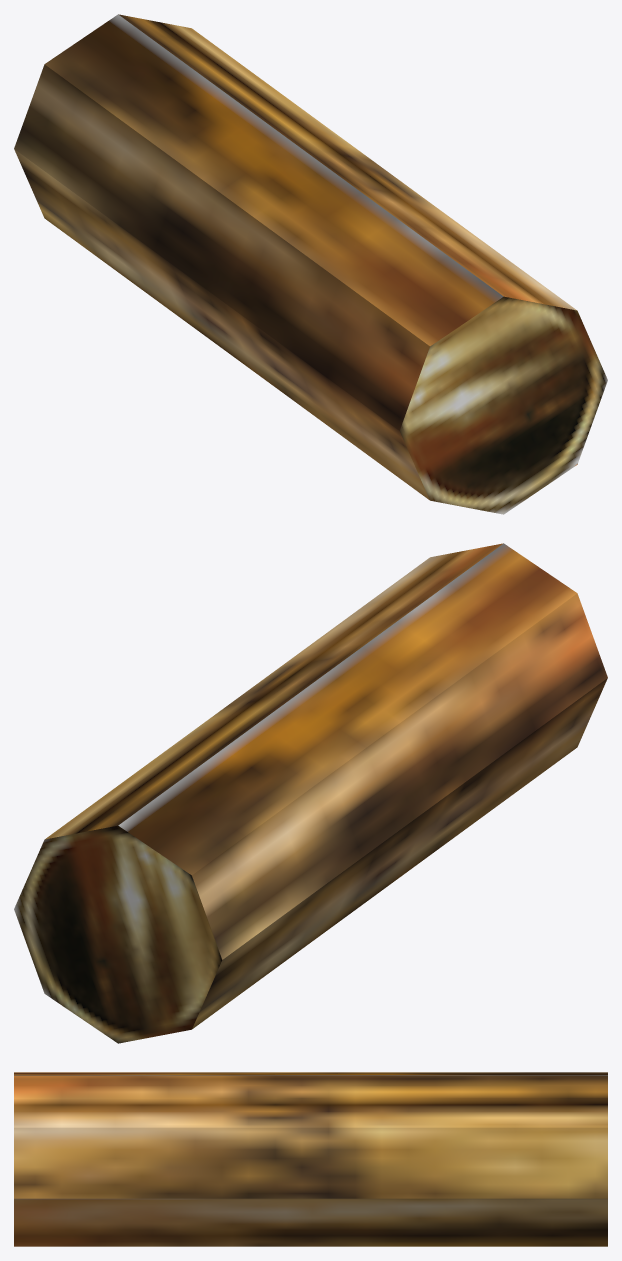
File: SteeringBase.fbx
The picture shows the model from 3 angles, top to bottom: view 1: azimuth 30°, elevation 25°; view 2: azimuth 150°, elevation 25°; view 3: azimuth 270°, elevation 25°; orthographic projection. The views are drawn at different scales.
Parts seen in each view (by area): view 1: SteerBase; view 2: SteerBase; view 3: SteerBase.
Part boxes in pixels (bbox=[...]): SteerBase: bbox=[14, 14, 607, 514]; SteerBase: bbox=[14, 543, 607, 1043]; SteerBase: bbox=[14, 1072, 607, 1246].
Size of the model in its own units: 21.24 by 21.24 by 68.08.
